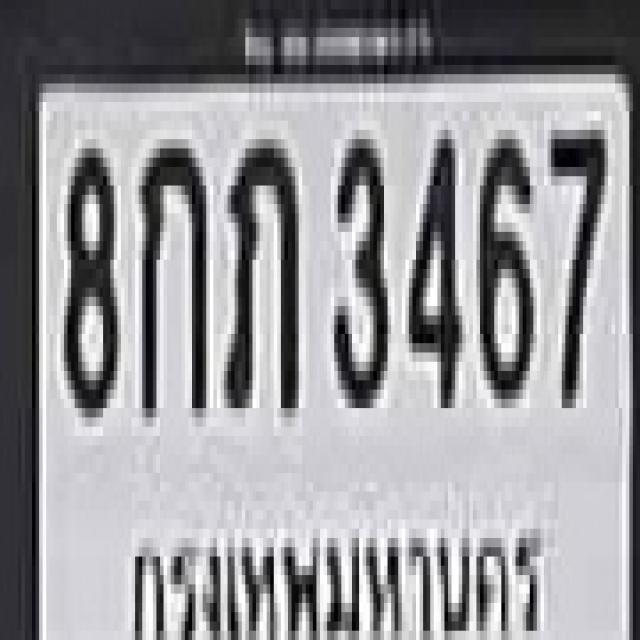3: (330, 130, 390, 416)
4: (406, 120, 464, 410)
6: (476, 130, 536, 403)
7: (547, 120, 606, 411)
8: (60, 139, 120, 423)
A01: (139, 130, 209, 418)
A32: (220, 130, 300, 422)
BKK: (121, 490, 544, 640)
